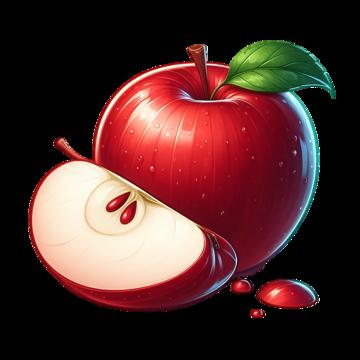apples: (17, 25, 342, 331), (39, 325, 45, 328)
